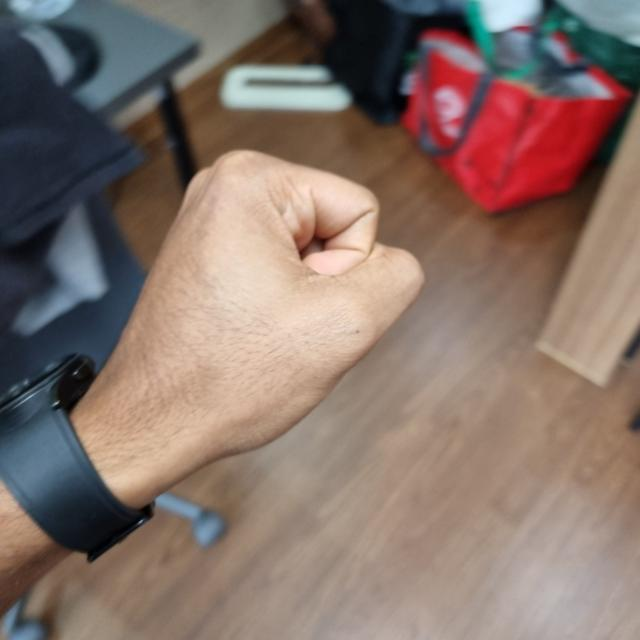Rock: (83, 154, 413, 488)
